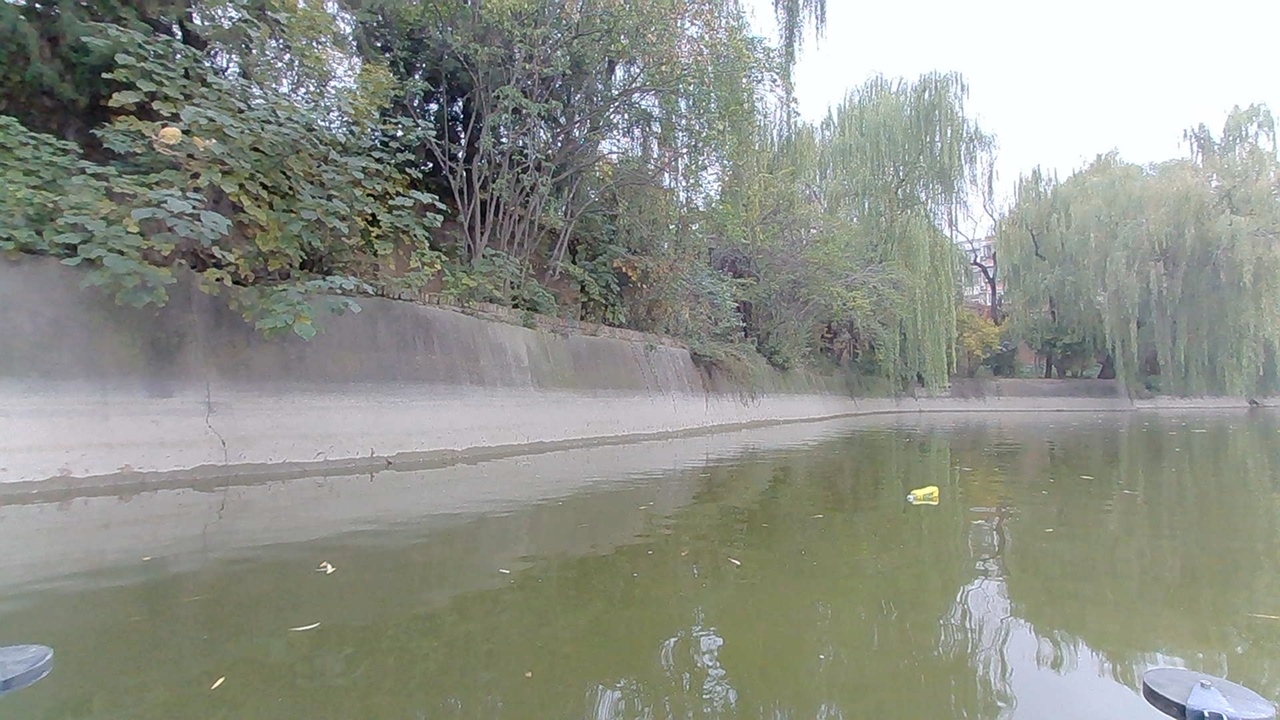bottle: (909, 483, 943, 506)
